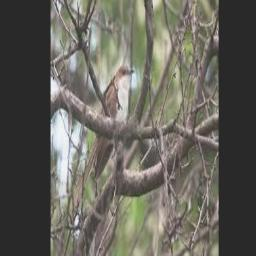Cuckoo: (70, 63, 134, 210)
